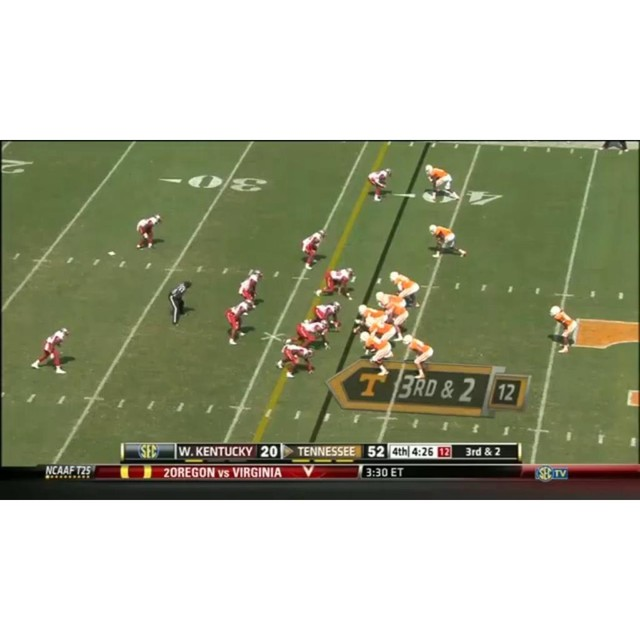american-football-player: (31, 327, 70, 374), (548, 305, 579, 354), (427, 223, 468, 259), (404, 333, 434, 380), (425, 164, 461, 203), (360, 333, 392, 376), (278, 342, 315, 379), (225, 298, 254, 345), (315, 268, 356, 300), (389, 270, 421, 308), (297, 319, 331, 350), (383, 303, 410, 341), (301, 229, 326, 268), (238, 269, 263, 307), (136, 214, 162, 250), (354, 304, 388, 331), (312, 303, 343, 332), (368, 167, 392, 202), (375, 292, 408, 310)
referee: (169, 280, 193, 328)
